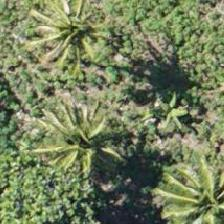coconut_tree: (40, 99, 130, 189), (26, 0, 116, 77), (163, 158, 223, 223)
